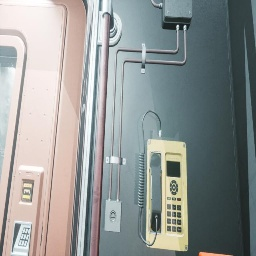EmergencyPhone ,: (138, 110, 188, 252)
FireAlarm ,: (198, 252, 234, 256)
